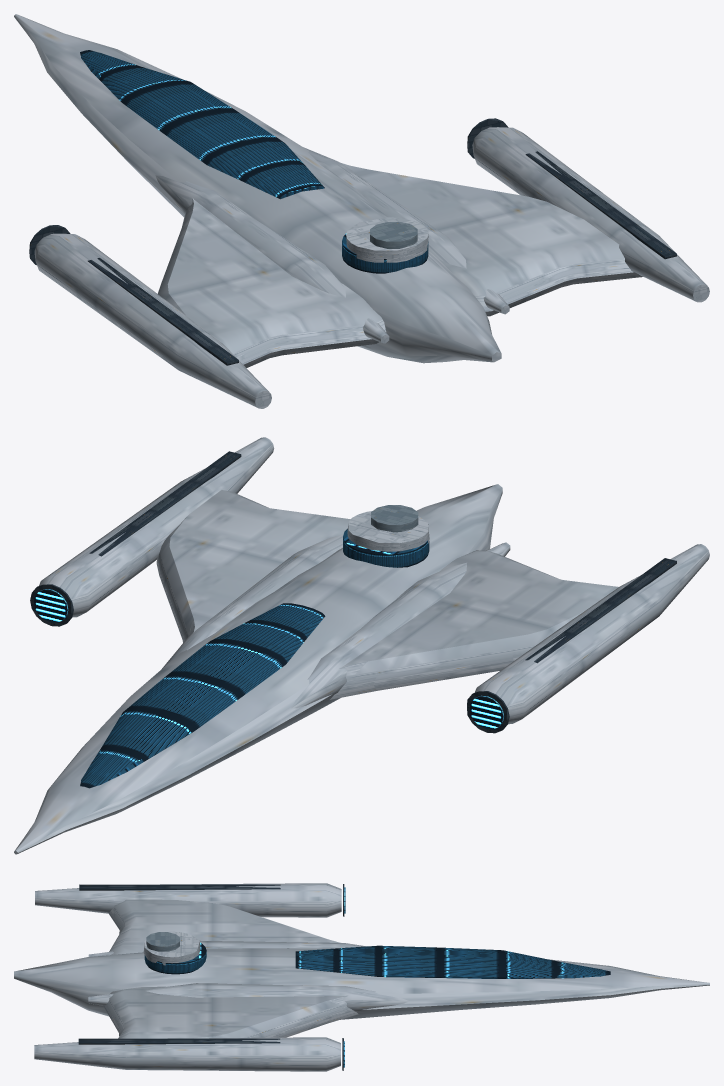
File: alliance_courier_recreated_lod1.glb
3 views of the same model, one above another, from view 1: azimuth 30°, elevation 25°; view 2: azimuth 150°, elevation 25°; view 3: azimuth 270°, elevation 25° (orthographic). The views are drawn at different scales.
Parts seen in each view (by area): view 1: alliance_courier_lod_source; view 2: alliance_courier_lod_source; view 3: alliance_courier_lod_source.
Boxes of the visible parts, left/top/right/bottom form: alliance_courier_lod_source: left=14, top=14, right=709, bottom=408; alliance_courier_lod_source: left=14, top=437, right=709, bottom=854; alliance_courier_lod_source: left=14, top=883, right=709, bottom=1071.
Bounding box in the file's own units: 0.4446 × 0.1014 × 0.7569.
Materials: 1 (1 with a texture image).
